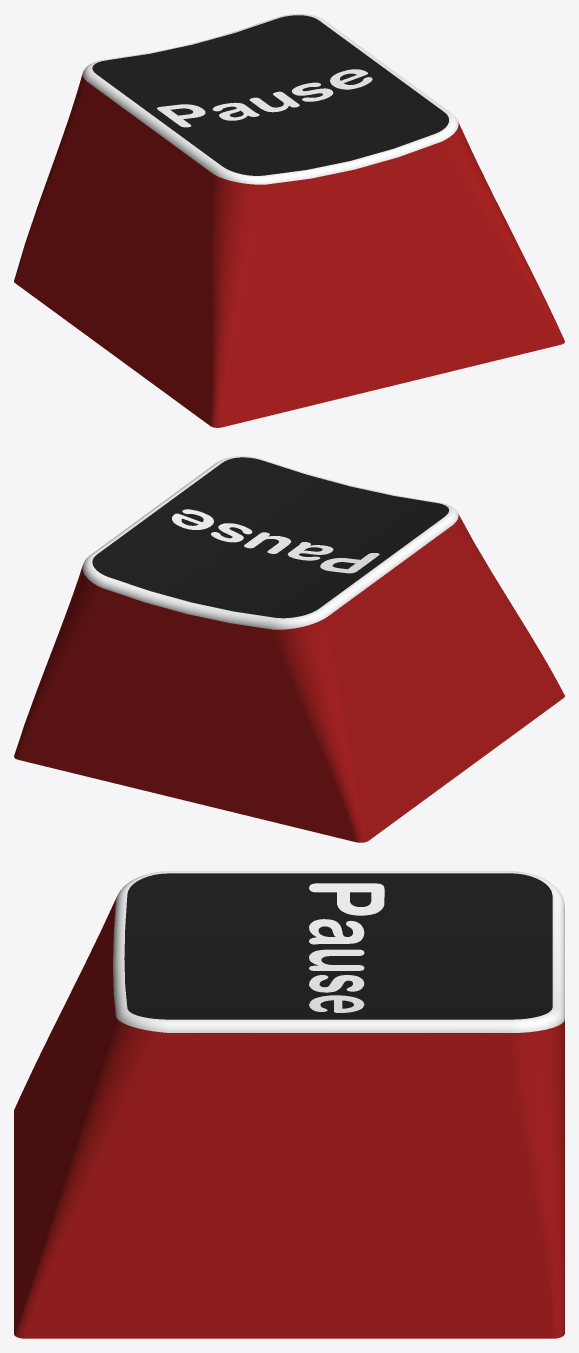
Rendered from Pause Mono.fbx.
3 views of the same model, one above another, from view 1: azimuth 30°, elevation 25°; view 2: azimuth 150°, elevation 25°; view 3: azimuth 270°, elevation 25° (orthographic). The views are drawn at different scales.
Parts seen in each view (by area): view 1: Body1; view 2: Body1; view 3: Body1.
Part boxes in pixels (x1=…): Body1: x1=14, y1=14, x2=564, y2=427; Body1: x1=14, y1=456, x2=564, y2=842; Body1: x1=14, y1=871, x2=564, y2=1338.
Bounding box in the file's own units: 18 × 9.95 × 18.
